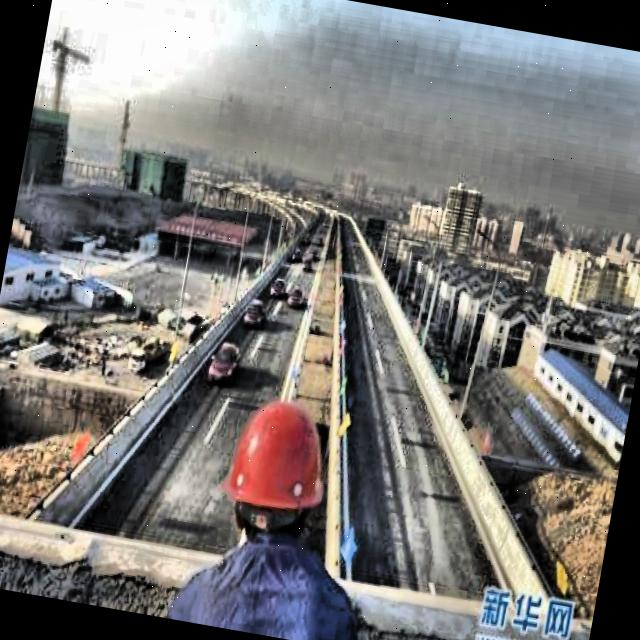helmet: (210, 384, 344, 568)
